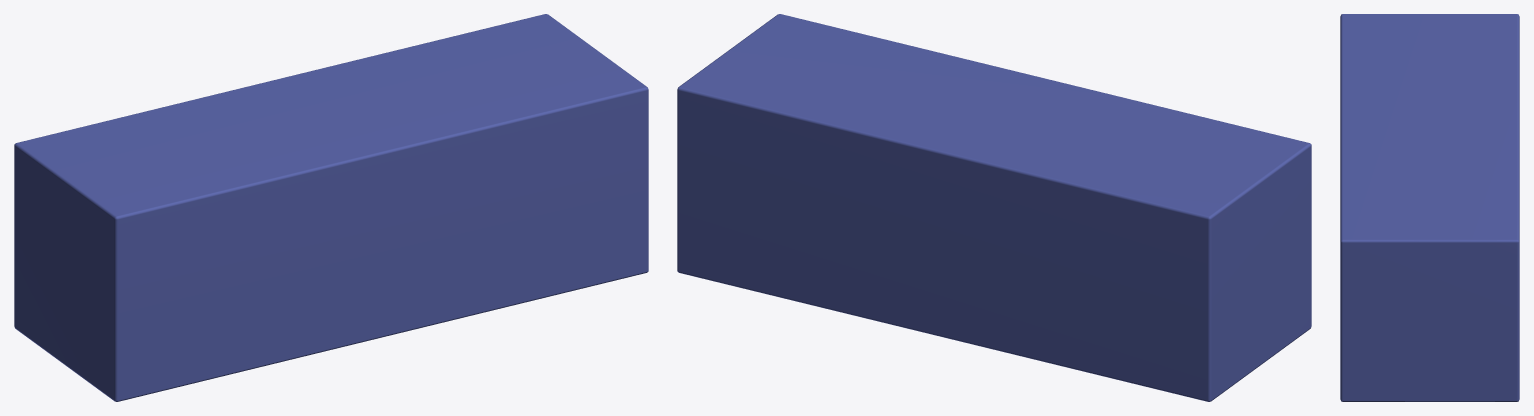
3 views of the same model, side by side, from view 1: azimuth 30°, elevation 25°; view 2: azimuth 150°, elevation 25°; view 3: azimuth 270°, elevation 25° (orthographic). The views are drawn at different scales.
Parts seen in each view (by area): view 1: SM_Cube_02; view 2: SM_Cube_02; view 3: SM_Cube_02.
Boxes of the visible parts, x1,y1,x2,y2 form: SM_Cube_02: (14,14,648,401); SM_Cube_02: (677,14,1311,401); SM_Cube_02: (1340,14,1519,401).
Size of the model in its own units: 601 by 200 by 200.
